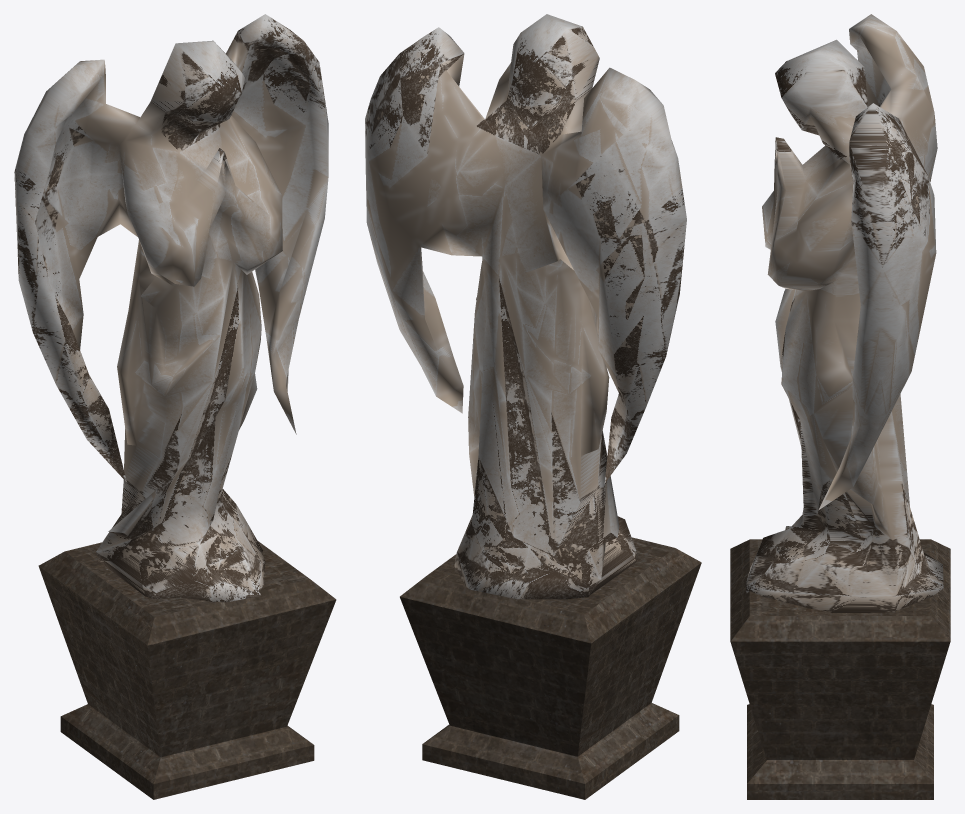
Rendered from Church statueTX.fbx.
3 renders of one model, left to right at view 1: azimuth 30°, elevation 25°; view 2: azimuth 150°, elevation 25°; view 3: azimuth 270°, elevation 25°, orthographic.
Visible parts, largest first — view 1: Arrange, Cube; view 2: Arrange, Cube; view 3: Arrange, Cube.
Boxes of the visible parts, x1,y1,x2,y2 form: Arrange: (14, 14, 328, 602); Cube: (38, 541, 336, 799); Arrange: (365, 14, 686, 599); Cube: (400, 537, 701, 799); Arrange: (745, 14, 943, 612); Cube: (730, 539, 950, 799).
Bounding box in the file's own units: 118 × 254 × 70.77.
1 material, 1 textured.
